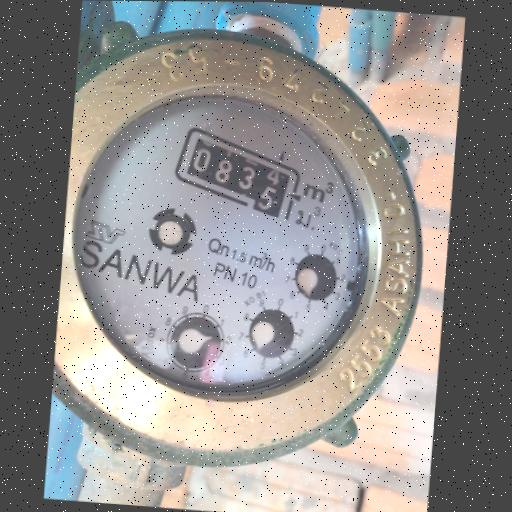0: (184, 137, 217, 182)
3: (227, 155, 268, 201)
5: (250, 165, 292, 219)
8: (203, 145, 241, 190)
border_water_meter_number: (167, 124, 310, 223)
